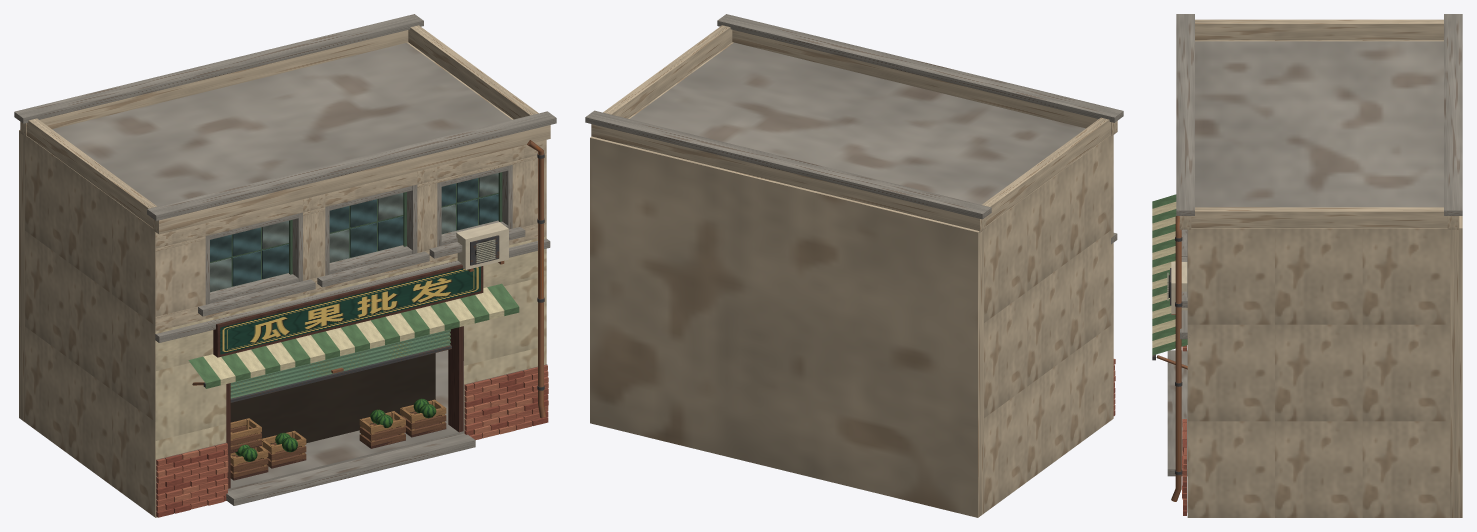
The model's file is scene-market-house.glb.
3 renders of one model, left to right at view 1: azimuth 30°, elevation 25°; view 2: azimuth 150°, elevation 25°; view 3: azimuth 270°, elevation 25°, orthographic.
Parts seen in each view (by area): view 1: scene-market-house; view 2: scene-market-house; view 3: scene-market-house.
Part boxes in pixels (bbox=[...]): scene-market-house: bbox=[14, 14, 556, 517]; scene-market-house: bbox=[585, 14, 1123, 517]; scene-market-house: bbox=[1152, 14, 1462, 517].
Bounding box in the file's own units: 6 × 4.4 × 4.
Materials: 3 (3 with a texture image).
